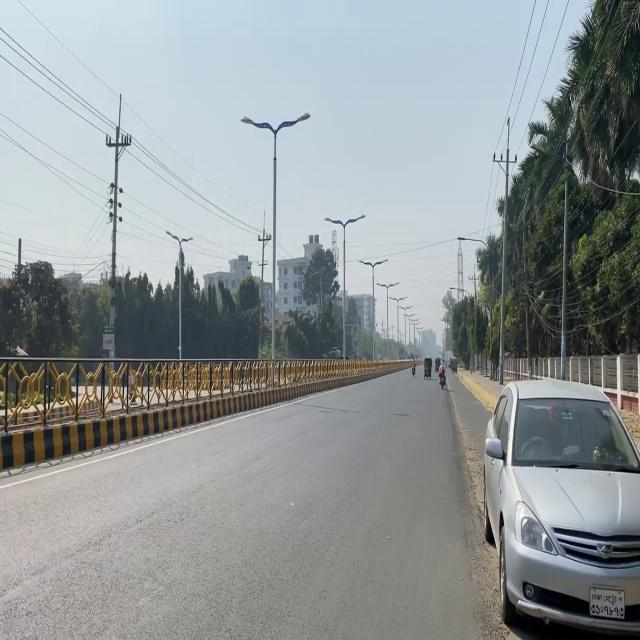Broken-road: (484, 376, 640, 640)
Construction-barrier: (456, 367, 497, 412)
Fallen-tree: (439, 374, 447, 389), (423, 368, 430, 379)
Garbage-bin: (437, 363, 446, 388), (410, 358, 416, 376)
Pole: (8, 342, 236, 484)
